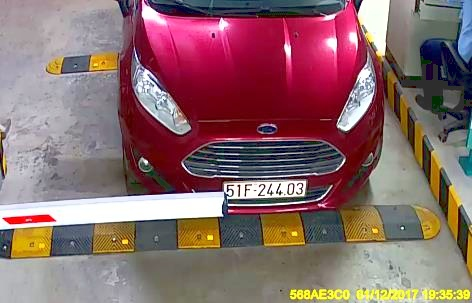plate: (218, 172, 309, 203)
